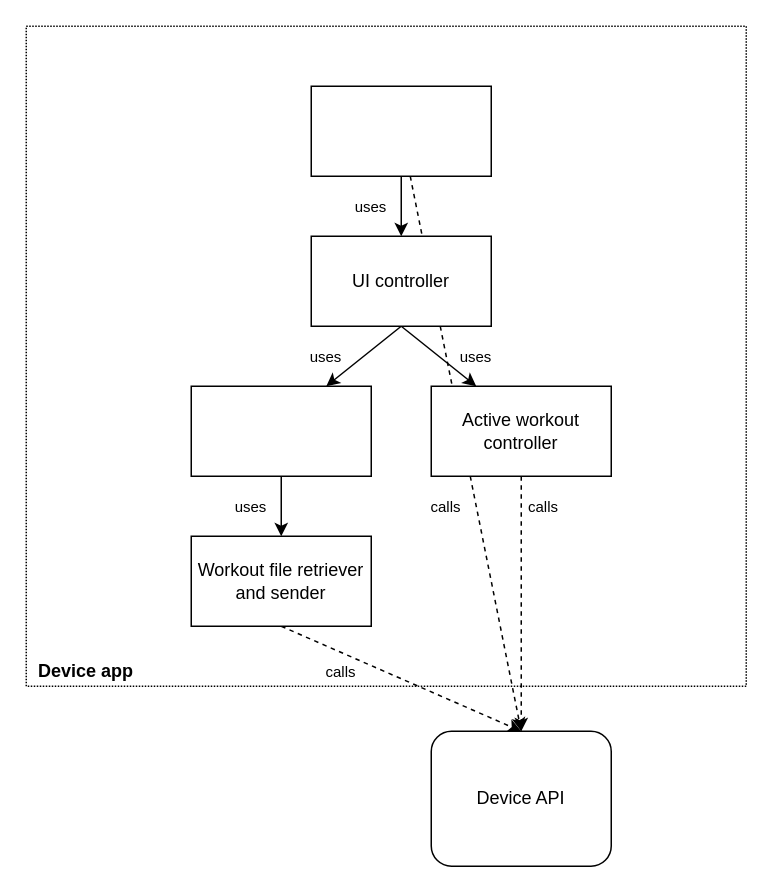
This 773x893 diagram has some shape labels left out. Each missing label, with the centre of its shape:
UI renderer: [400,130]
Workout loader and saver: [280,430]
